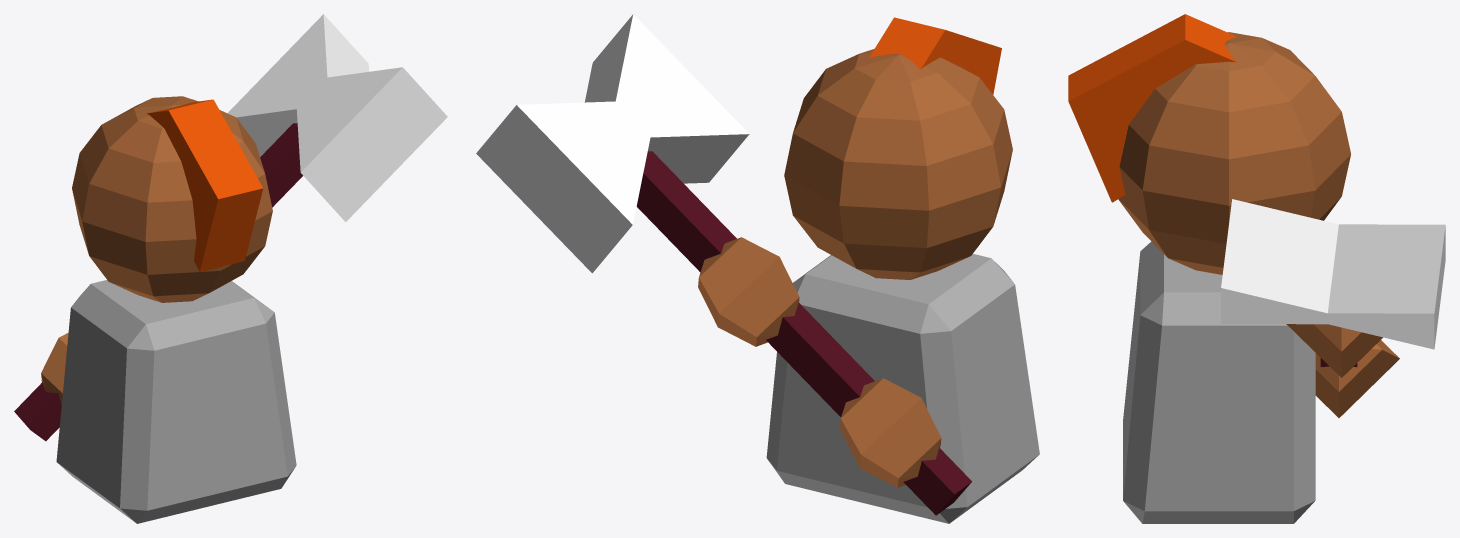
The model's file is Brawler_temp.fbx.
3 views of the same model, side by side, from view 1: azimuth 30°, elevation 25°; view 2: azimuth 150°, elevation 25°; view 3: azimuth 270°, elevation 25° (orthographic). The views are drawn at different scales.
Parts seen in each view (by area): view 1: Armor, Head, Blade, Hair, Haft, Left hand; view 2: Armor, Head, Blade, Haft, Right hand, Left hand, Hair; view 3: Armor, Head, Blade, Hair, Left hand, Right hand.
Part boxes in pixels (left/top/right/bottom): Armor: left=56, top=280, right=296, bottom=523; Head: left=72, top=96, right=272, bottom=302; Blade: left=227, top=14, right=447, bottom=222; Hair: left=147, top=99, right=263, bottom=271; Haft: left=14, top=123, right=302, bottom=441; Left hand: left=41, top=332, right=68, bottom=404; Armor: left=766, top=254, right=1039, bottom=523; Head: left=784, top=49, right=1012, bottom=279; Blade: left=476, top=14, right=749, bottom=273; Haft: left=636, top=151, right=971, bottom=515; Right hand: left=698, top=237, right=799, bottom=346; Left hand: left=840, top=378, right=941, bottom=487; Hair: left=869, top=17, right=1001, bottom=94; Armor: left=1123, top=241, right=1315, bottom=523; Head: left=1118, top=32, right=1350, bottom=274; Blade: left=1221, top=199, right=1445, bottom=349; Hair: left=1068, top=14, right=1236, bottom=202; Left hand: left=1315, top=340, right=1399, bottom=417; Right hand: left=1286, top=324, right=1382, bottom=377.
Size of the model in its own units: 430 by 412 by 309.
